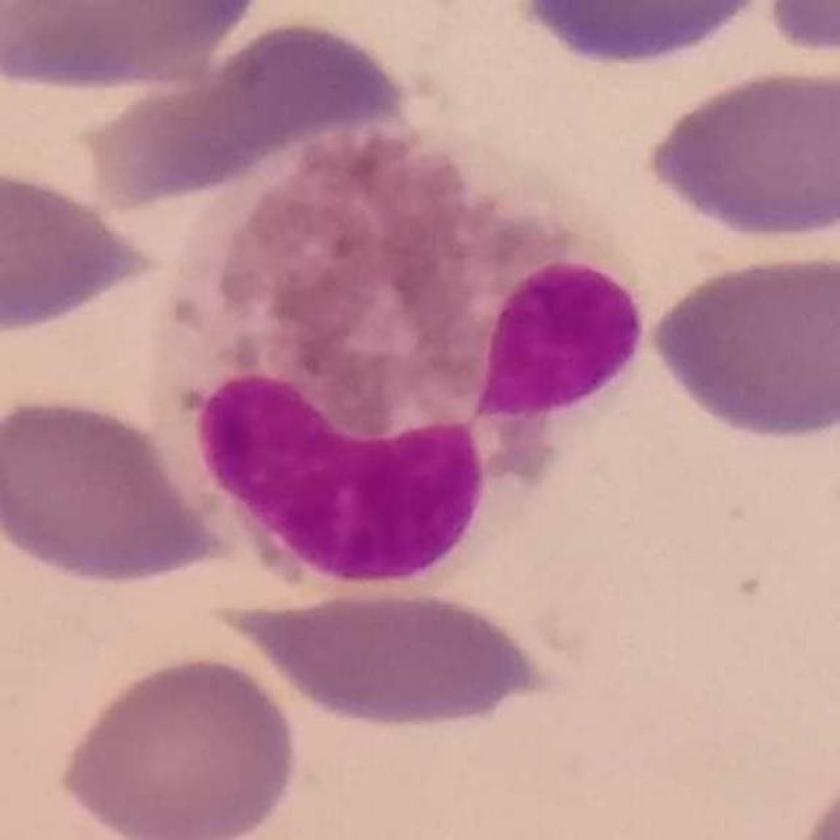eosinophil: (148, 91, 651, 604)
